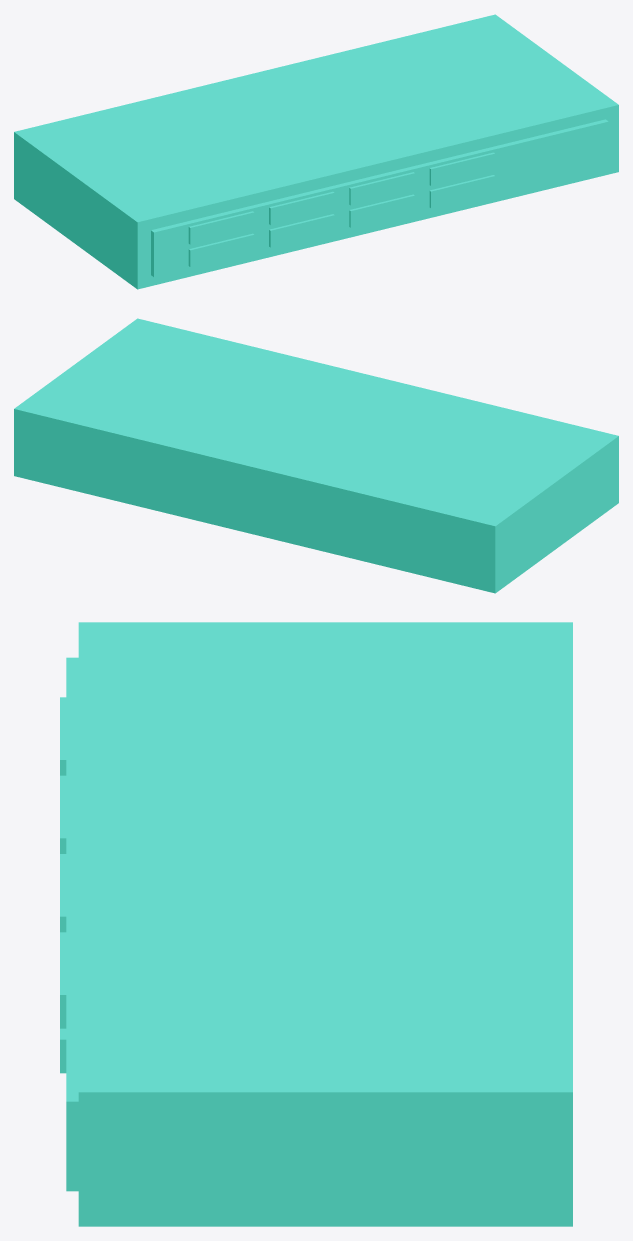
Rendered from switch.glb.
3 renders of one model, top to bottom at view 1: azimuth 30°, elevation 25°; view 2: azimuth 150°, elevation 25°; view 3: azimuth 270°, elevation 25°, orthographic. The views are drawn at different scales.
Visible parts, largest first — view 1: CyberDomeAsset; view 2: CyberDomeAsset; view 3: CyberDomeAsset.
Boxes of the visible parts, left/top/right/bottom form: CyberDomeAsset: left=14, top=14, right=618, bottom=289; CyberDomeAsset: left=14, top=318, right=618, bottom=593; CyberDomeAsset: left=60, top=622, right=572, bottom=1226.
Bounding box in the file's own units: 0.9 × 0.12 × 0.415.
